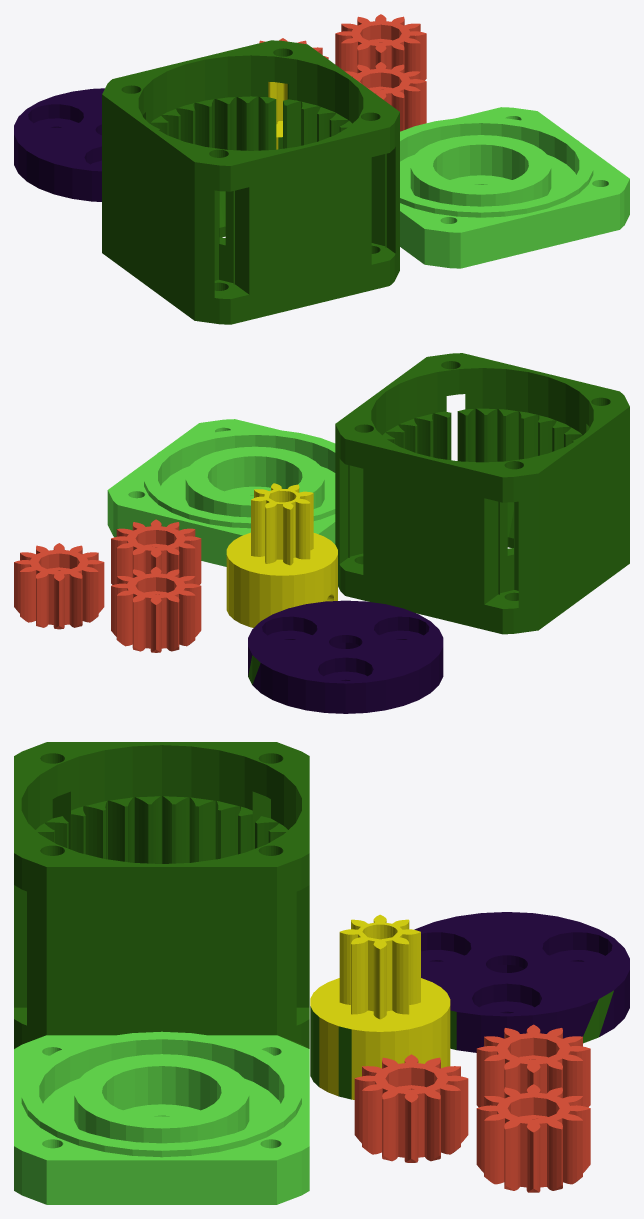
The model's file is speed_reducer_single_print.dae.
3 renders of one model, top to bottom at view 1: azimuth 30°, elevation 25°; view 2: azimuth 150°, elevation 25°; view 3: azimuth 270°, elevation 25°, orthographic. The views are drawn at different scales.
Parts seen in each view (by area): view 1: Speed Reducer Single Print; view 2: Speed Reducer Single Print; view 3: Speed Reducer Single Print.
Boxes of the visible parts, bbox=[...] form: Speed Reducer Single Print: bbox=[14, 14, 629, 324]; Speed Reducer Single Print: bbox=[14, 353, 629, 713]; Speed Reducer Single Print: bbox=[14, 742, 629, 1204].
Size of the model in its own units: 0.089 by 0.0875 by 0.031.
